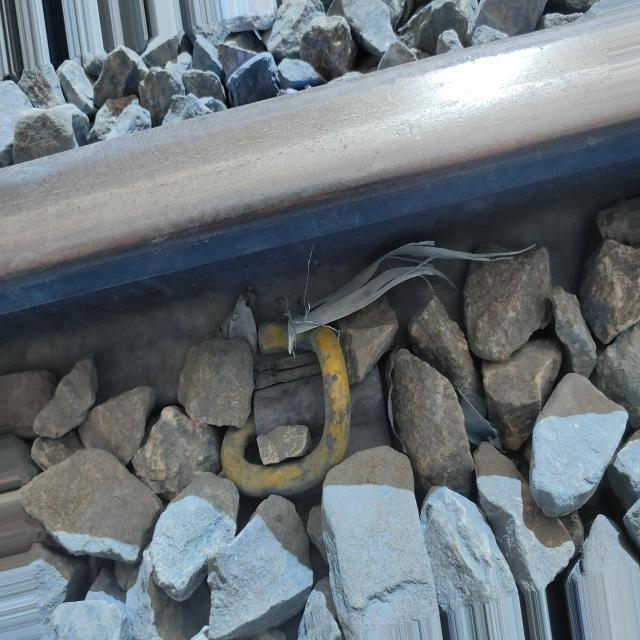Good Fasteners: (201, 300, 404, 516)
